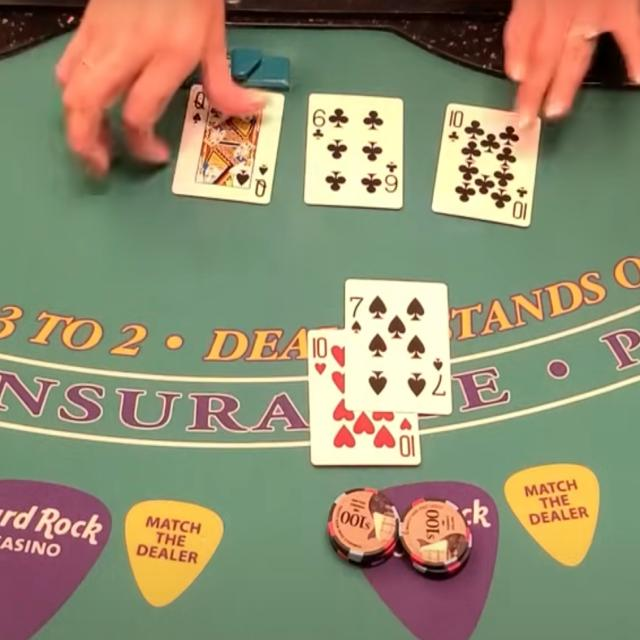10: (310, 336, 330, 359), (446, 107, 466, 128)
6: (312, 107, 328, 128)
7: (347, 294, 367, 320)
Q: (191, 88, 208, 112)
